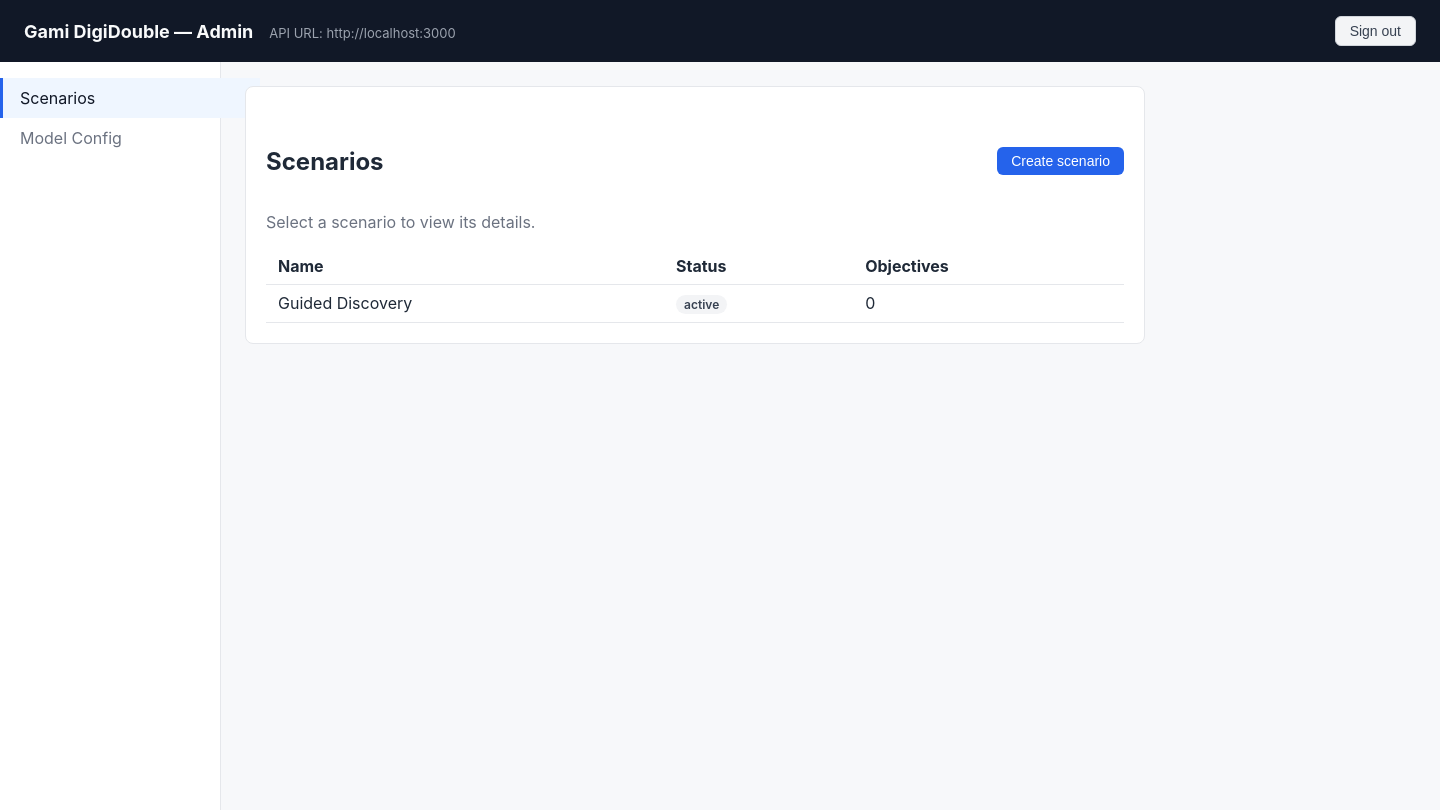
it: App navigation › opens the scenario detail shell after selecting a scenario row
Expected: the link "Guided Discovery" is shown, left=278, top=293, right=412, bottom=313
Click the text "Guided Discovery": coordinates (695, 303) left=266, top=284, right=1124, bottom=322
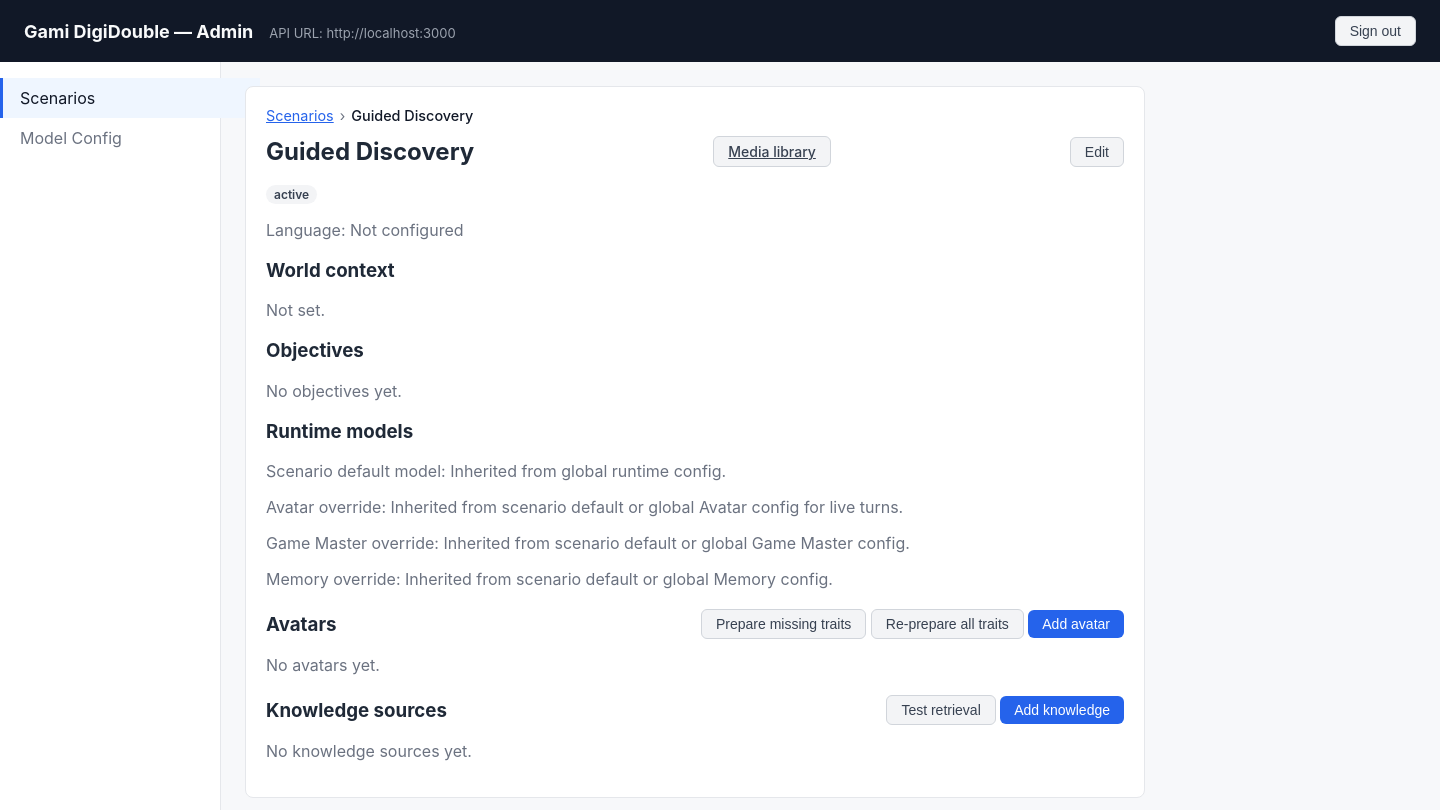
Result: the heading "Guided Discovery" is shown at left=266, top=137, right=474, bottom=166
